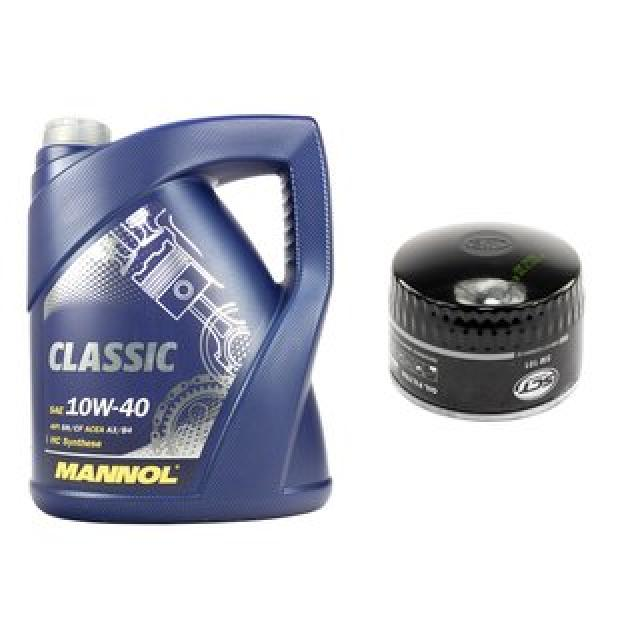motor_oil: (20, 102, 334, 528)
oil_filter: (380, 219, 587, 424)
